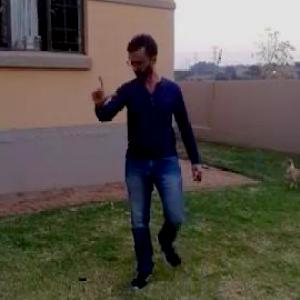land_hand: (82, 71, 123, 107)
